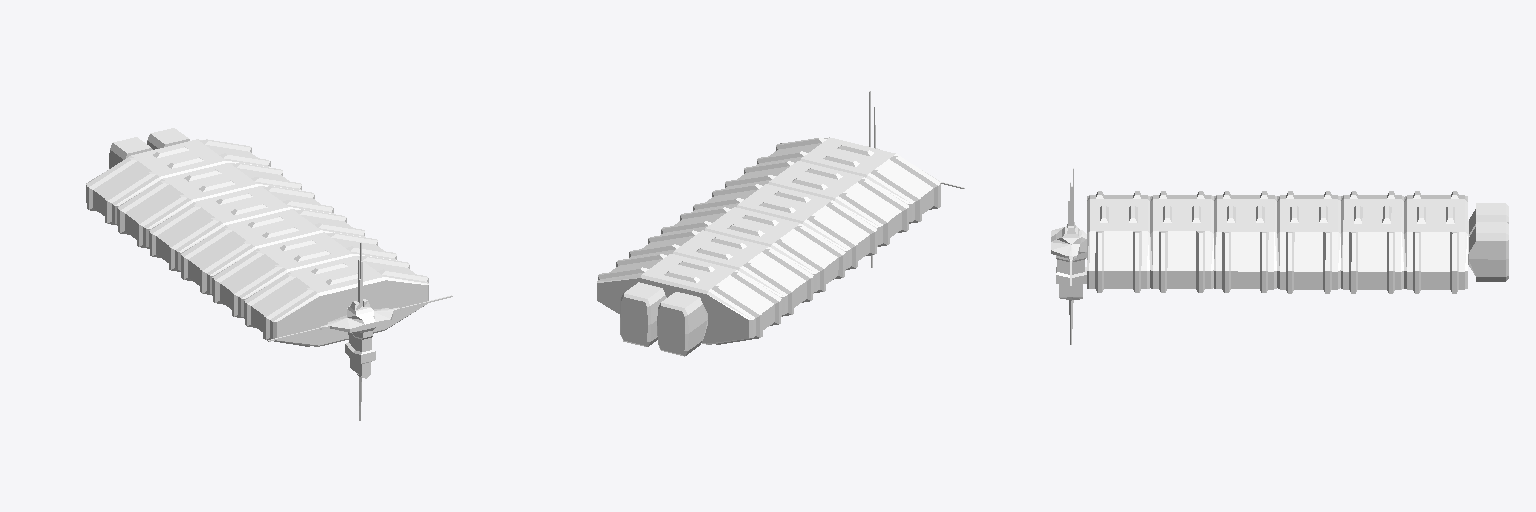
The model's file is tridacna.obj.
3 renders of one model, left to right at view 1: azimuth 30°, elevation 25°; view 2: azimuth 150°, elevation 25°; view 3: azimuth 270°, elevation 25°, orthographic.
Visible parts, largest first — view 1: octotoad4_octotoad4_a; view 2: octotoad4_octotoad4_a; view 3: octotoad4_octotoad4_a.
Part boxes in pixels (x1,y1,x2,y2): octotoad4_octotoad4_a: (86,128,452,420); octotoad4_octotoad4_a: (597,91,964,356); octotoad4_octotoad4_a: (1051,168,1508,344).
Bounding box in the file's own units: 6.91 × 6.36 × 14.9.